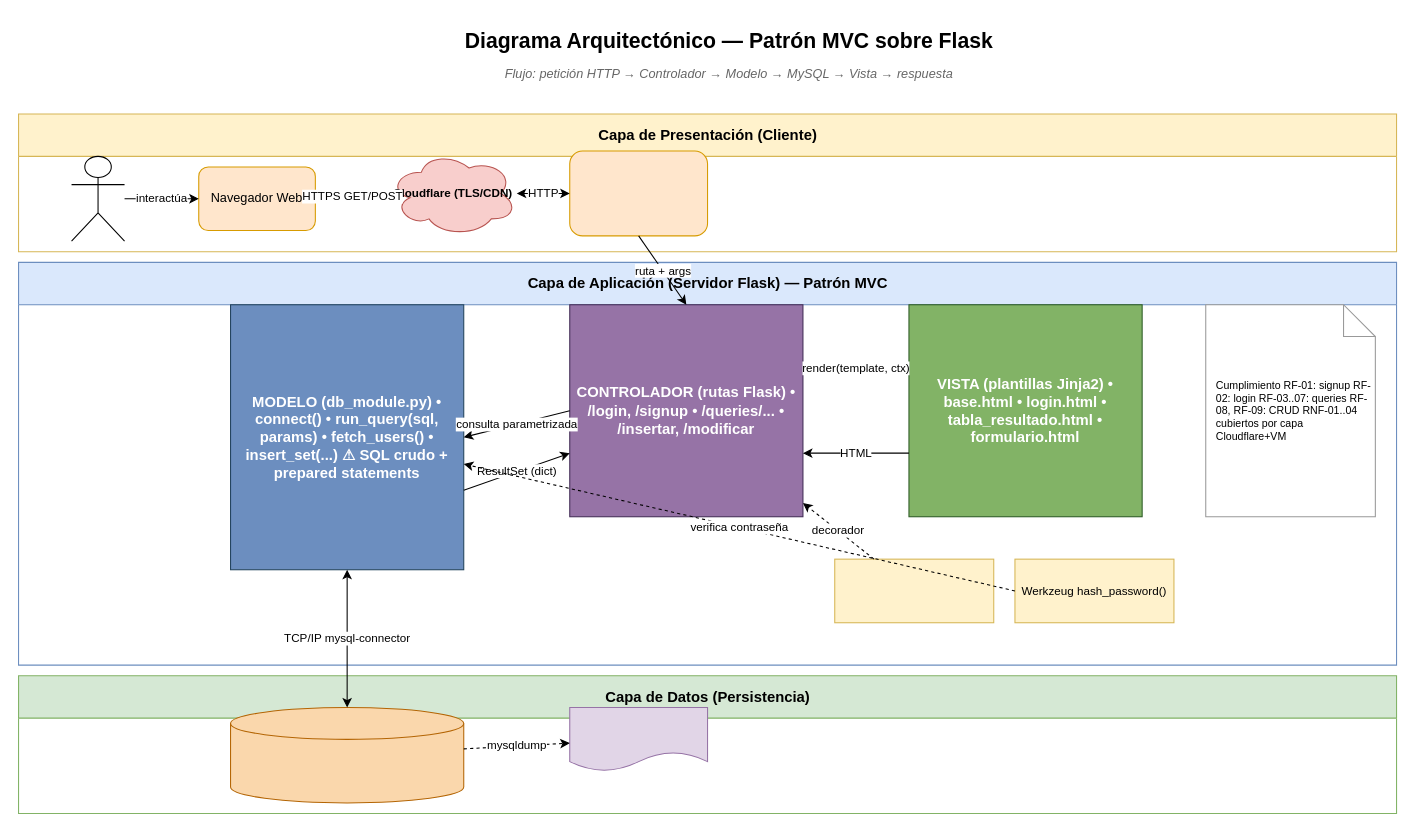
Some shapes in this 1415 by 832 pixel diagram are drawn without their labels. The centre of each missing label's shape, as x and y in pixels:
"Backups .sql diarios" goes at point 638,738.
"Flask-Login @login_required" goes at point 914,590.
"Gunicorn (WSGI Server)" goes at point 638,193.
"MySQL LegoDB 13 tablas 3NF / BCNF" goes at point 346,754.
"Usuario" goes at point 97,198.
